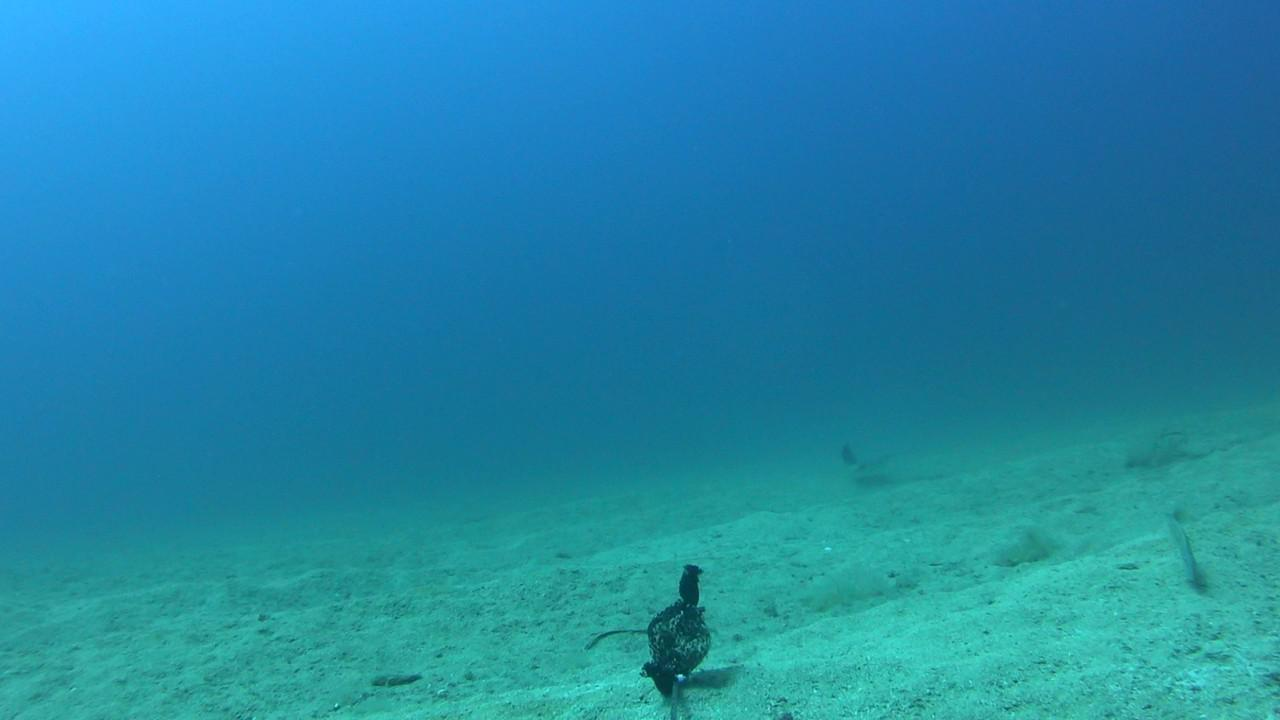myliobatis: (810, 425, 945, 485)
